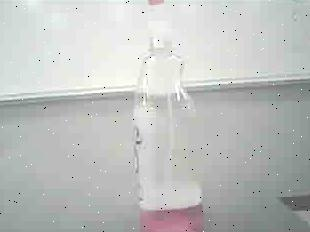hazard: (129, 0, 213, 232)
